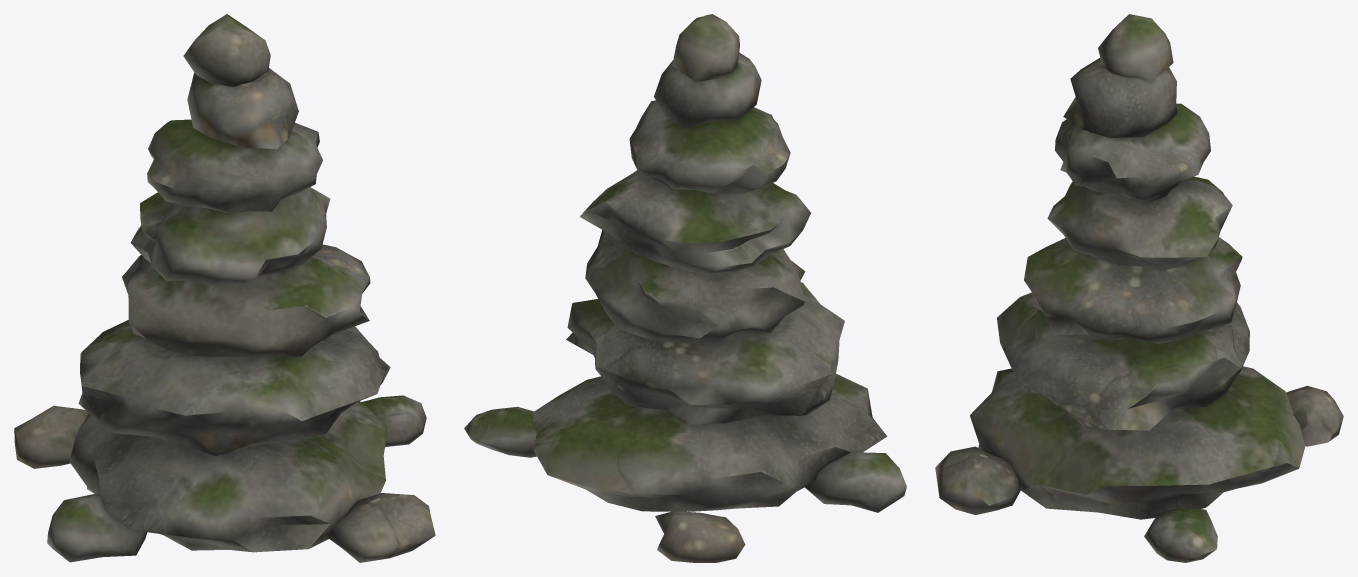
Rendered from fm_cairn.glb.
3 renders of one model, left to right at view 1: azimuth 30°, elevation 25°; view 2: azimuth 150°, elevation 25°; view 3: azimuth 270°, elevation 25°, orthographic. The views are drawn at different scales.
Visible parts, largest first — view 1: fm_cairn; view 2: fm_cairn; view 3: fm_cairn.
Boxes of the visible parts, x1,y1,x2,y2 form: fm_cairn: (14,14,435,562); fm_cairn: (464,14,906,562); fm_cairn: (935,14,1343,562).
Bounding box in the file's own units: 1.16 × 1.28 × 1.05.
1 material, 1 textured.
